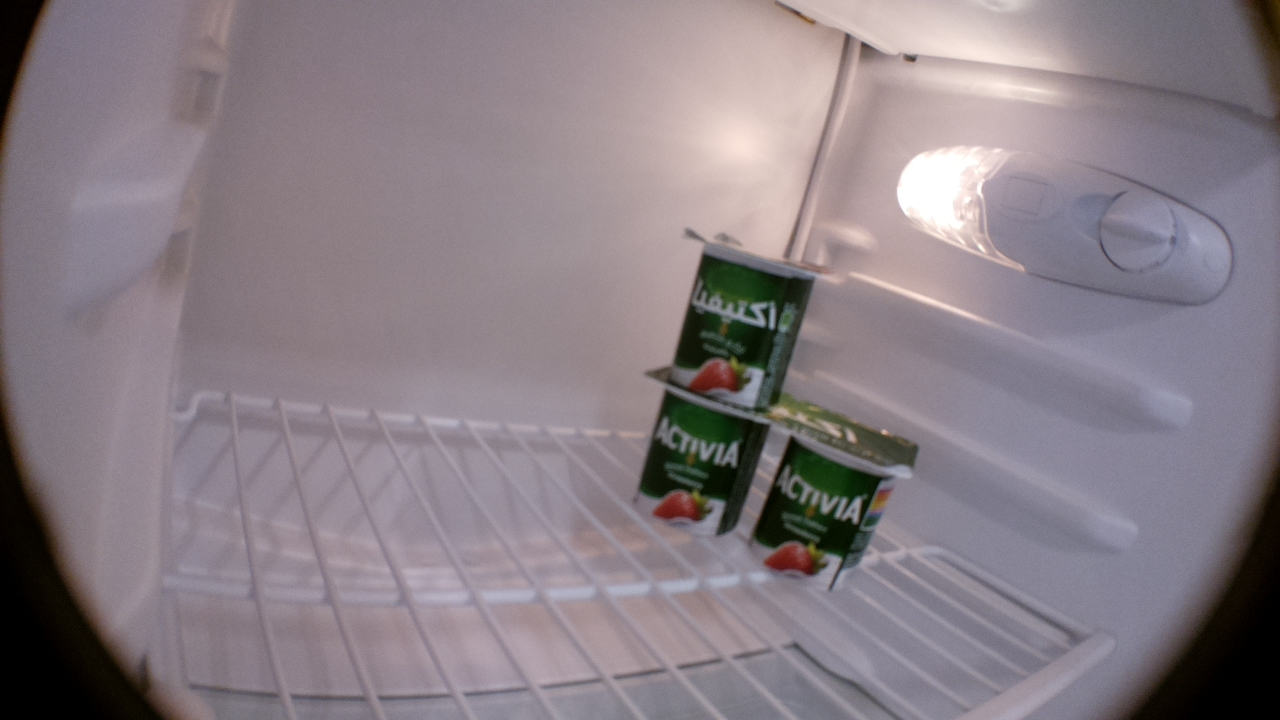yoghurt: (668, 225, 838, 411), (749, 405, 919, 591), (627, 368, 785, 545)
